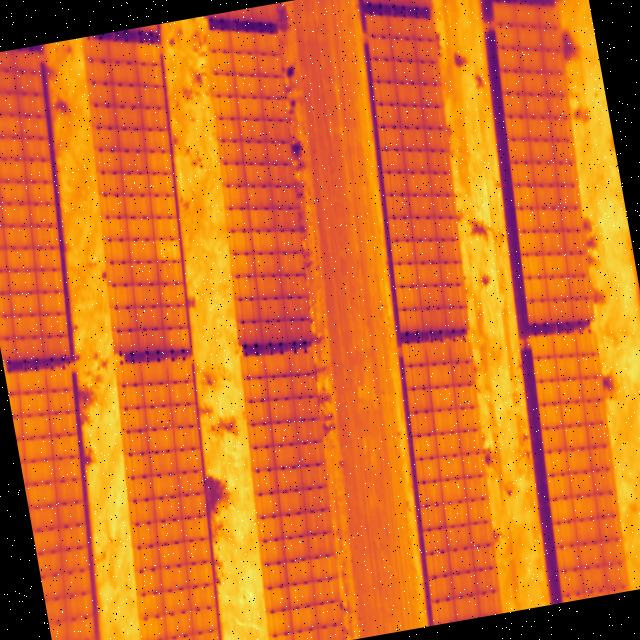Hotspot: (441, 496, 473, 532), (439, 474, 466, 502), (391, 238, 417, 264), (392, 262, 419, 287), (154, 238, 182, 262), (520, 253, 544, 280), (518, 231, 542, 255)
